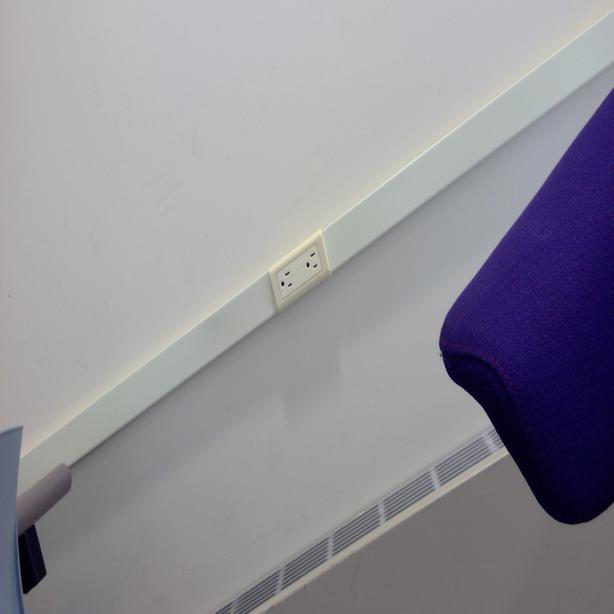typeb: (274, 264, 296, 298), (302, 246, 320, 278)
